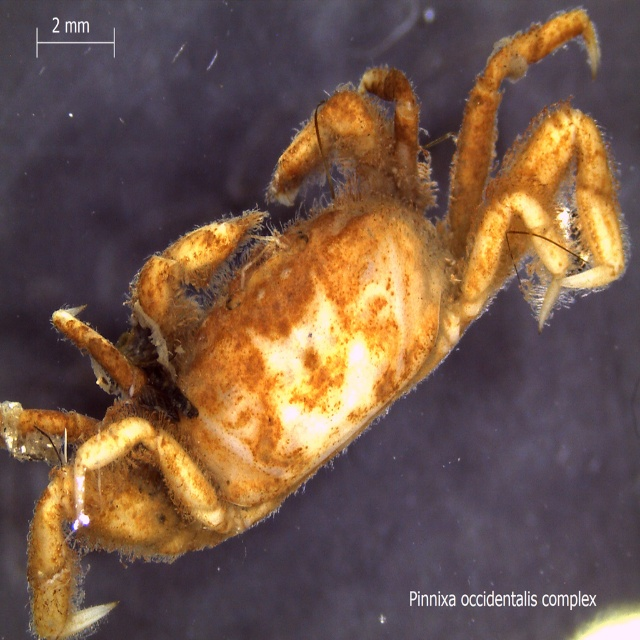Crab: (0, 3, 630, 639)
